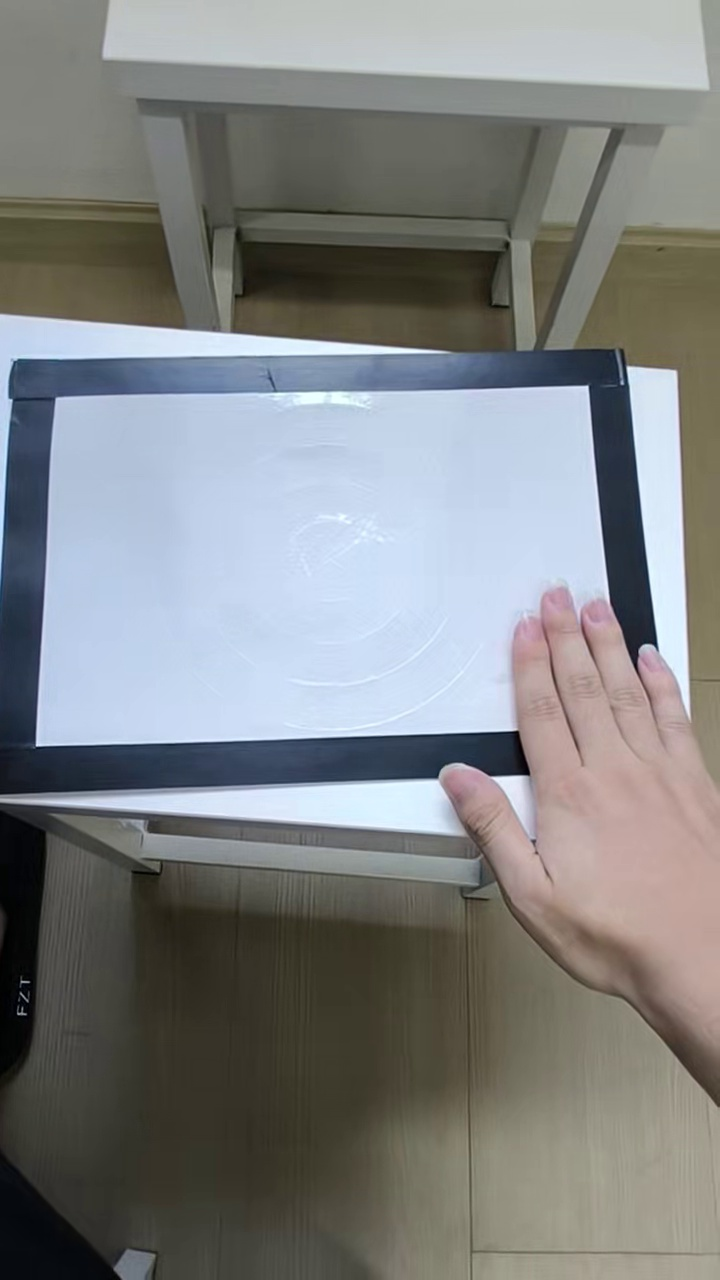board: (8, 352, 679, 788)
